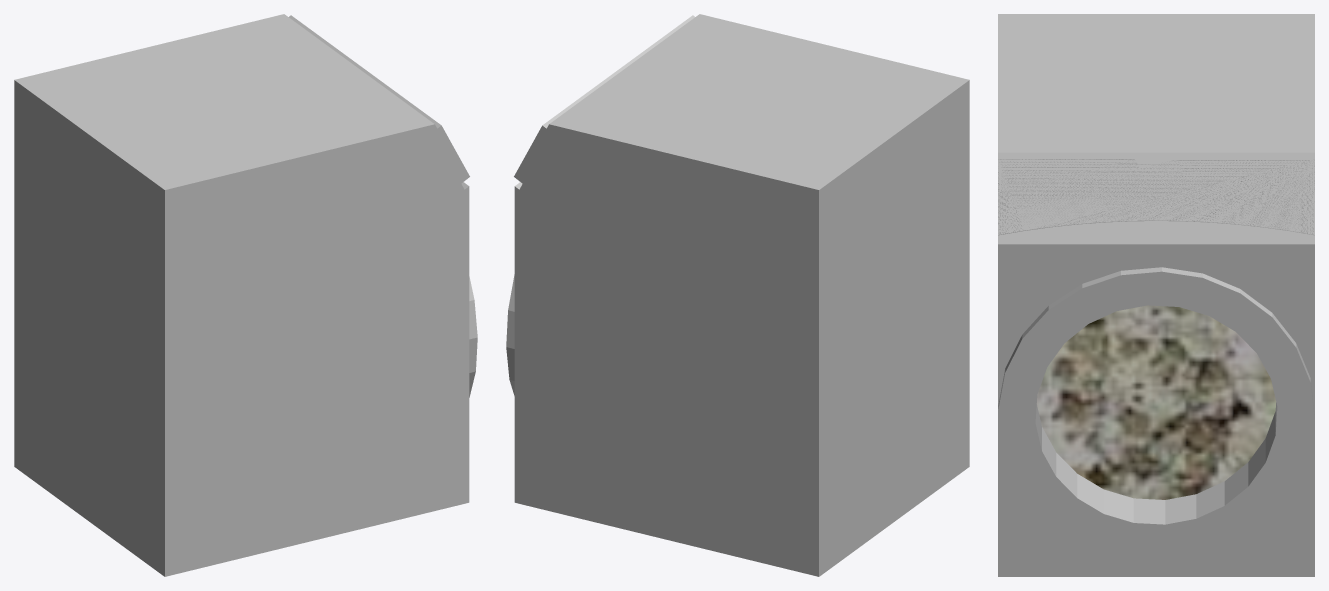
3 renders of one model, left to right at view 1: azimuth 30°, elevation 25°; view 2: azimuth 150°, elevation 25°; view 3: azimuth 270°, elevation 25°, orthographic. The views are drawn at different scales.
Visible parts, largest first — view 1: mesh1.001_mesh1-geometry; view 2: mesh1.001_mesh1-geometry; view 3: mesh1.001_mesh1-geometry.
Boxes of the visible parts, <box> form: mesh1.001_mesh1-geometry: <box>14,14,477,576</box>; mesh1.001_mesh1-geometry: <box>506,14,969,576</box>; mesh1.001_mesh1-geometry: <box>998,14,1314,576</box>.
Bounding box in the file's own units: 0.569 × 0.6718 × 0.4742.
